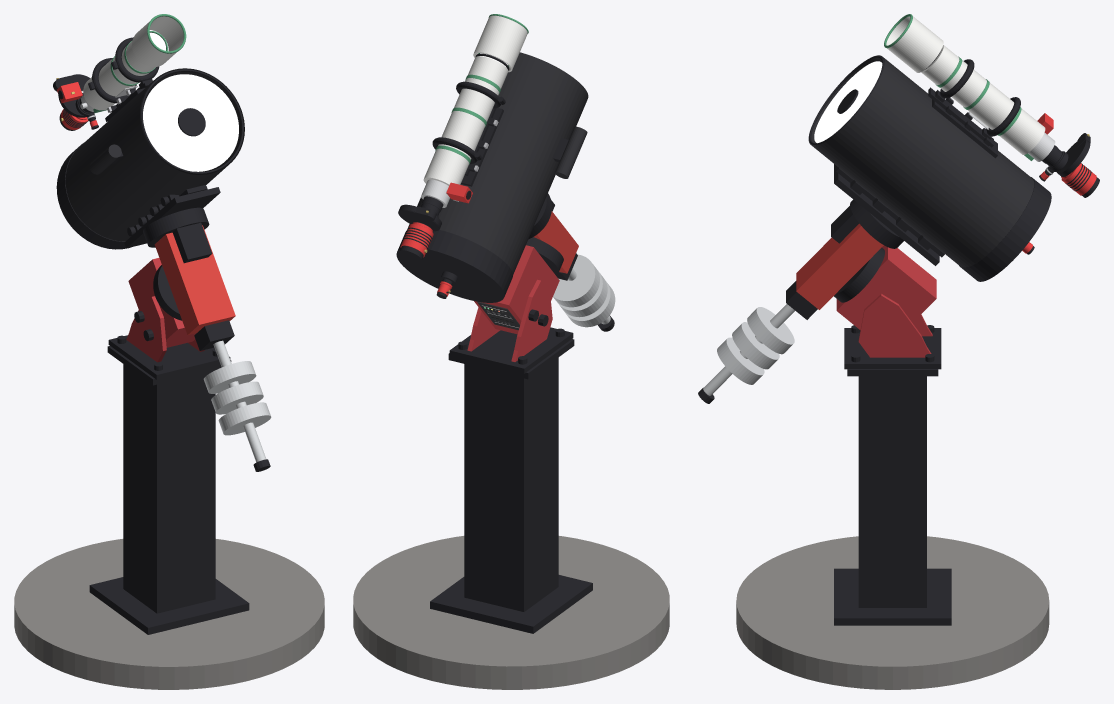
File: paramount-me.glb
3 renders of one model, left to right at view 1: azimuth 30°, elevation 25°; view 2: azimuth 150°, elevation 25°; view 3: azimuth 270°, elevation 25°, orthographic.
Visible parts, largest first — view 1: ObsPad, PierColumn, C14_Tube, C14_Corrector, ME_UpperHousing, PierBaseFlange, ME_BasePlate, FSQ_Tube, FSQ_DewShield, ME_LatPlate_L, ME_LowerBody, C14_RearCell (+14 smaller); view 2: ObsPad, PierColumn, C14_Tube, C14_RearCell, FSQ_Tube, PierBaseFlange, ME_BasePlate, ME_LowerBody, FSQ_DewShield, ME_LatPlate_L, ME_Counterweight_0, ME_UpperHousing (+10 smaller); view 3: ObsPad, C14_Tube, PierColumn, PierBaseFlange, FSQ_Tube, ME_LowerBody, ME_UpperHousing, ME_LatPlate_R, C14_RearCell, C14_Corrector, FSQ_DewShield, ME_BasePlate (+8 smaller).
Part boxes in pixels (bbox=[...]): ObsPad: bbox=[14, 539, 324, 689]; PierColumn: bbox=[123, 364, 215, 613]; C14_Tube: bbox=[65, 68, 244, 241]; C14_Corrector: bbox=[143, 74, 238, 171]; ME_UpperHousing: bbox=[154, 225, 235, 334]; PierBaseFlange: bbox=[89, 577, 249, 634]; ME_BasePlate: bbox=[108, 335, 230, 379]; FSQ_Tube: bbox=[83, 41, 155, 110]; FSQ_DewShield: bbox=[132, 16, 183, 67]; ME_LatPlate_L: bbox=[126, 296, 166, 362]; ME_LowerBody: bbox=[128, 258, 196, 347]; C14_RearCell: bbox=[56, 143, 130, 249]; ObsPad: bbox=[353, 536, 669, 689]; PierColumn: bbox=[464, 357, 558, 611]; C14_Tube: bbox=[407, 52, 588, 274]; C14_RearCell: bbox=[396, 229, 512, 302]; FSQ_Tube: bbox=[423, 56, 508, 185]; PierBaseFlange: bbox=[430, 575, 592, 633]; ME_BasePlate: bbox=[449, 327, 573, 373]; ME_LowerBody: bbox=[474, 245, 559, 334]; FSQ_DewShield: bbox=[473, 15, 527, 72]; ME_LatPlate_L: bbox=[511, 279, 552, 361]; ME_Counterweight_0: bbox=[553, 254, 599, 307]; ME_UpperHousing: bbox=[534, 211, 578, 273]; ObsPad: bbox=[736, 536, 1049, 689]; C14_Tube: bbox=[808, 55, 1034, 267]; PierColumn: bbox=[858, 376, 926, 607]; PierBaseFlange: bbox=[834, 568, 951, 625]; FSQ_Tube: bbox=[921, 45, 1045, 154]; ME_LowerBody: bbox=[836, 245, 936, 329]; ME_UpperHousing: bbox=[796, 223, 883, 309]; ME_LatPlate_R: bbox=[858, 294, 931, 357]; C14_RearCell: bbox=[959, 177, 1051, 281]; C14_Corrector: bbox=[814, 61, 882, 143]; FSQ_DewShield: bbox=[886, 16, 943, 72]; ME_BasePlate: bbox=[844, 328, 941, 369].
Size of the model in its own units: 1.1 by 2.36 by 1.41.
